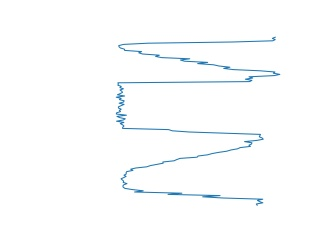mouthBar: (115, 35, 283, 79)
underwaterDistributaryChannel: (118, 135, 268, 208), (111, 72, 267, 142)
